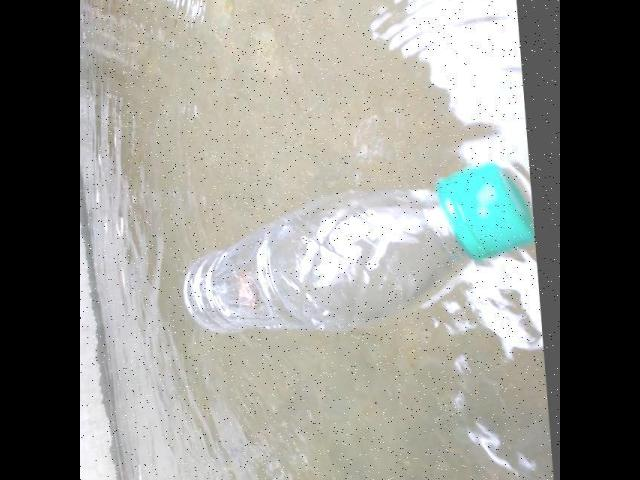Bottle: (182, 157, 534, 333)
